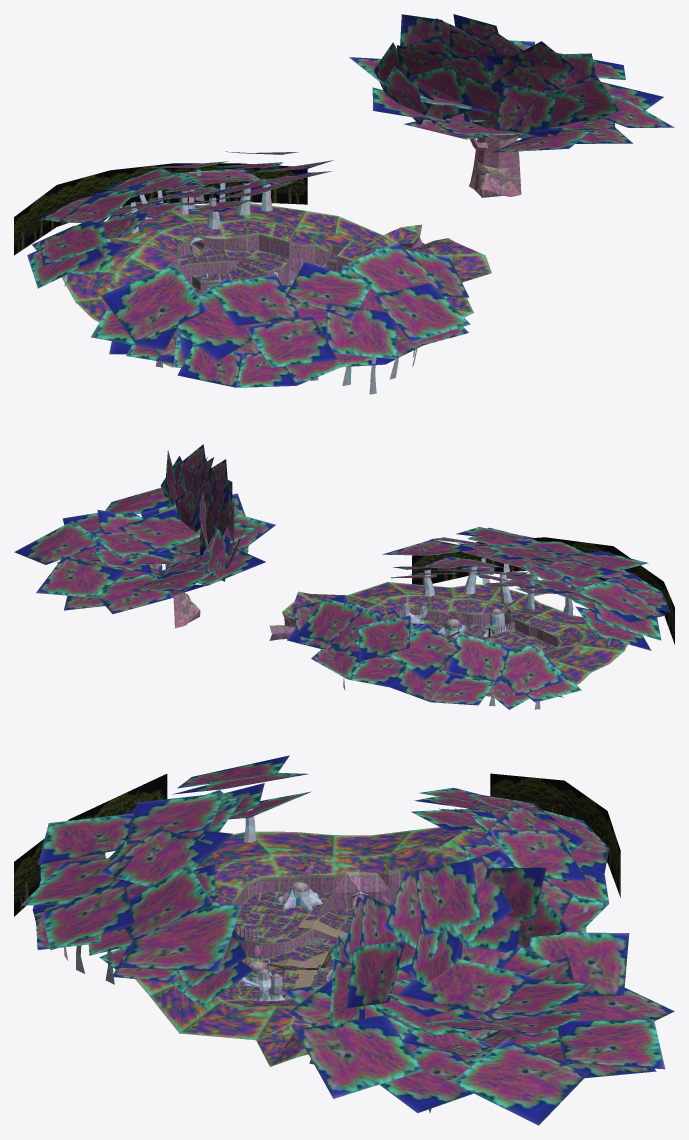
File: kokiri_forest.gltf
3 renders of one model, top to bottom at view 1: azimuth 30°, elevation 25°; view 2: azimuth 150°, elevation 25°; view 3: azimuth 270°, elevation 25°, orthographic. The views are drawn at different scales.
Visible parts, largest first — view 1: node-00A0D094; view 2: node-00A0D094; view 3: node-00A0D094.
Part boxes in pixels (x1,y1,x2,y2): node-00A0D094: [14, 14, 674, 394]; node-00A0D094: [14, 444, 674, 709]; node-00A0D094: [14, 755, 674, 1125].
Size of the model in its own units: 98.92 by 29.91 by 70.66.
Materials: 19 (19 with a texture image).
